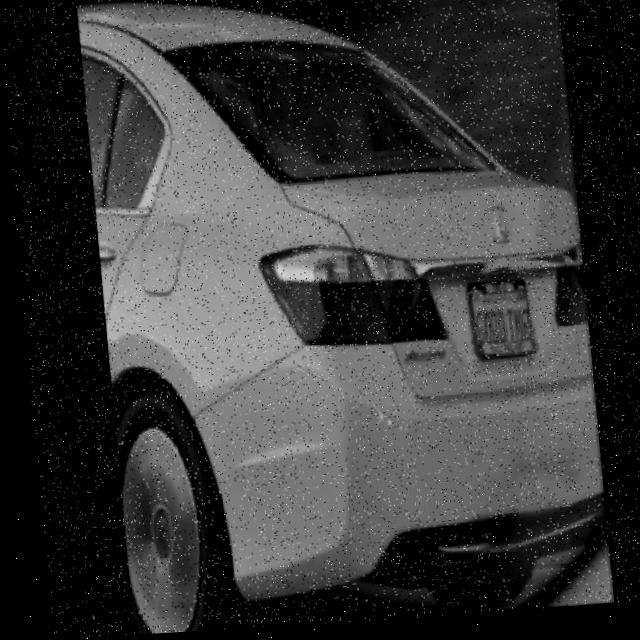LicensePlate: (462, 285, 531, 362)
